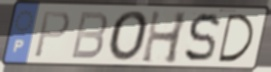B: (69, 10, 110, 61)
D: (216, 13, 256, 64)
H: (139, 8, 190, 65)
O: (107, 10, 151, 64)
P: (32, 10, 73, 59)
S: (182, 11, 222, 64)
